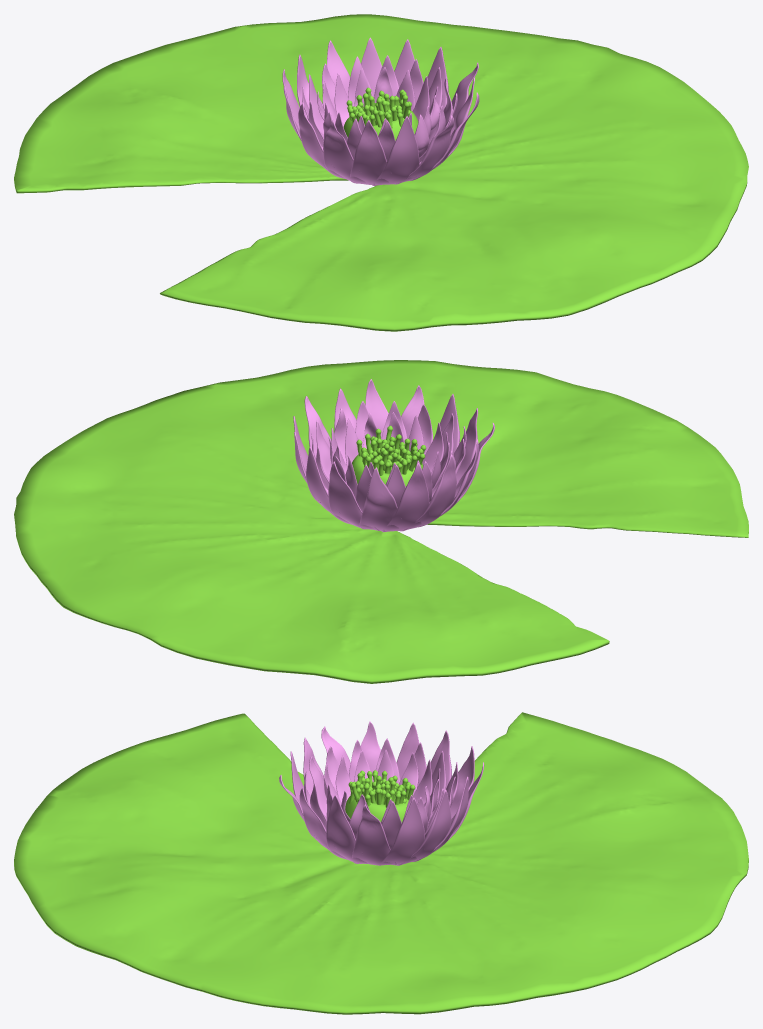
File: mq_nenufar_5.glb
The picture shows the model from 3 angles, top to bottom: view 1: azimuth 30°, elevation 25°; view 2: azimuth 150°, elevation 25°; view 3: azimuth 270°, elevation 25°; orthographic projection.
Parts seen in each view (by area): view 1: lilypad, outerpedal, midpedal, innerpeda;, bud; view 2: lilypad, outerpedal, midpedal, innerpeda;, bud; view 3: lilypad, outerpedal, midpedal, innerpeda;, bud, bud2.
Part boxes in pixels (left/top/right/bottom): lilypad: left=14, top=14, right=748, bottom=331; outerpedal: left=282, top=37, right=479, bottom=185; midpedal: left=302, top=55, right=457, bottom=162; innerpeda;: left=317, top=67, right=440, bottom=142; bud: left=346, top=87, right=411, bottom=128; lilypad: left=14, top=360, right=748, bottom=683; outerpedal: left=293, top=379, right=494, bottom=532; midpedal: left=311, top=401, right=466, bottom=511; innerpeda;: left=328, top=412, right=450, bottom=497; bud: left=356, top=425, right=426, bottom=475; lilypad: left=14, top=712, right=748, bottom=1014; outerpedal: left=279, top=721, right=484, bottom=865; midpedal: left=303, top=738, right=458, bottom=849; innerpeda;: left=323, top=749, right=440, bottom=823; bud: left=348, top=770, right=415, bottom=807; bud2: left=345, top=796, right=408, bottom=822.
Bounding box in the file's own units: 193 × 31.47 × 203.
